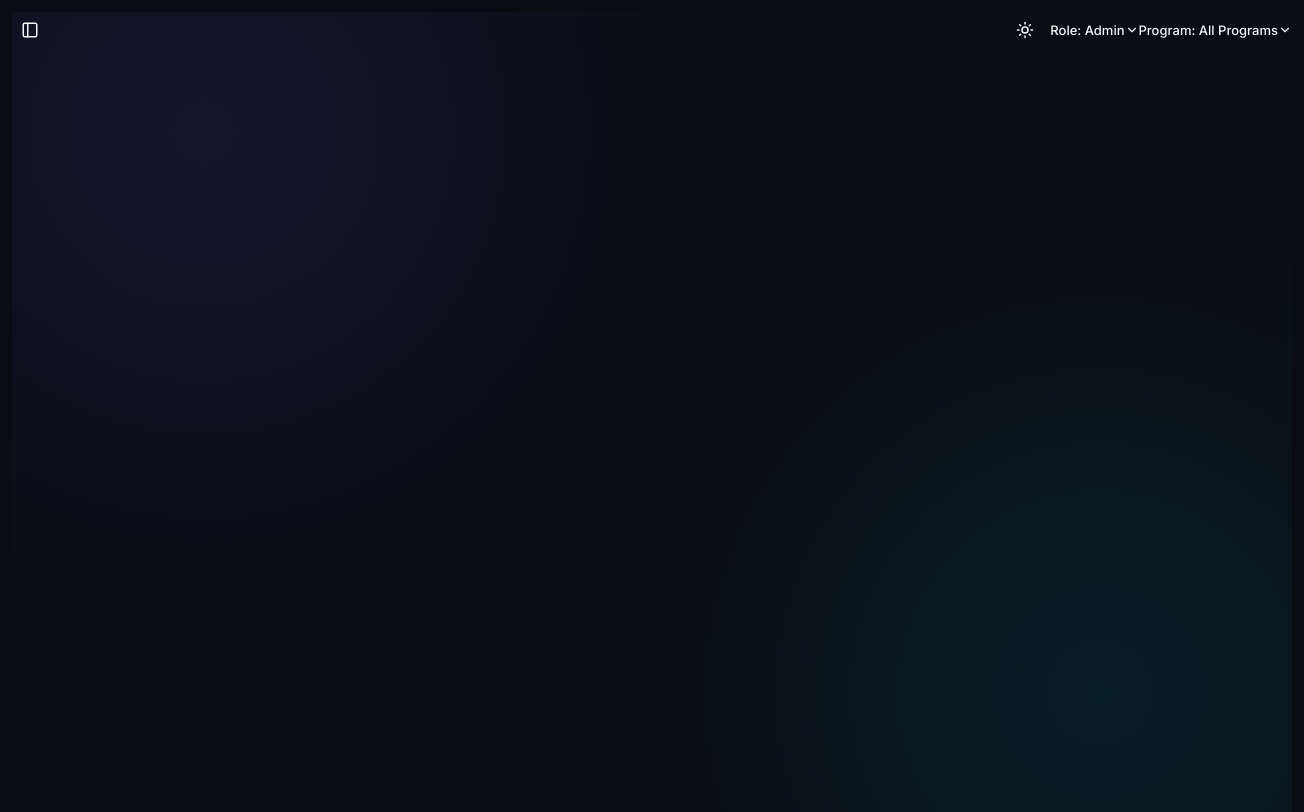
Scenario: Header › role dropdown › opens a listbox of roles
Click the button "Role: Admin" at (1091, 30), box [1043,13,1138,47]
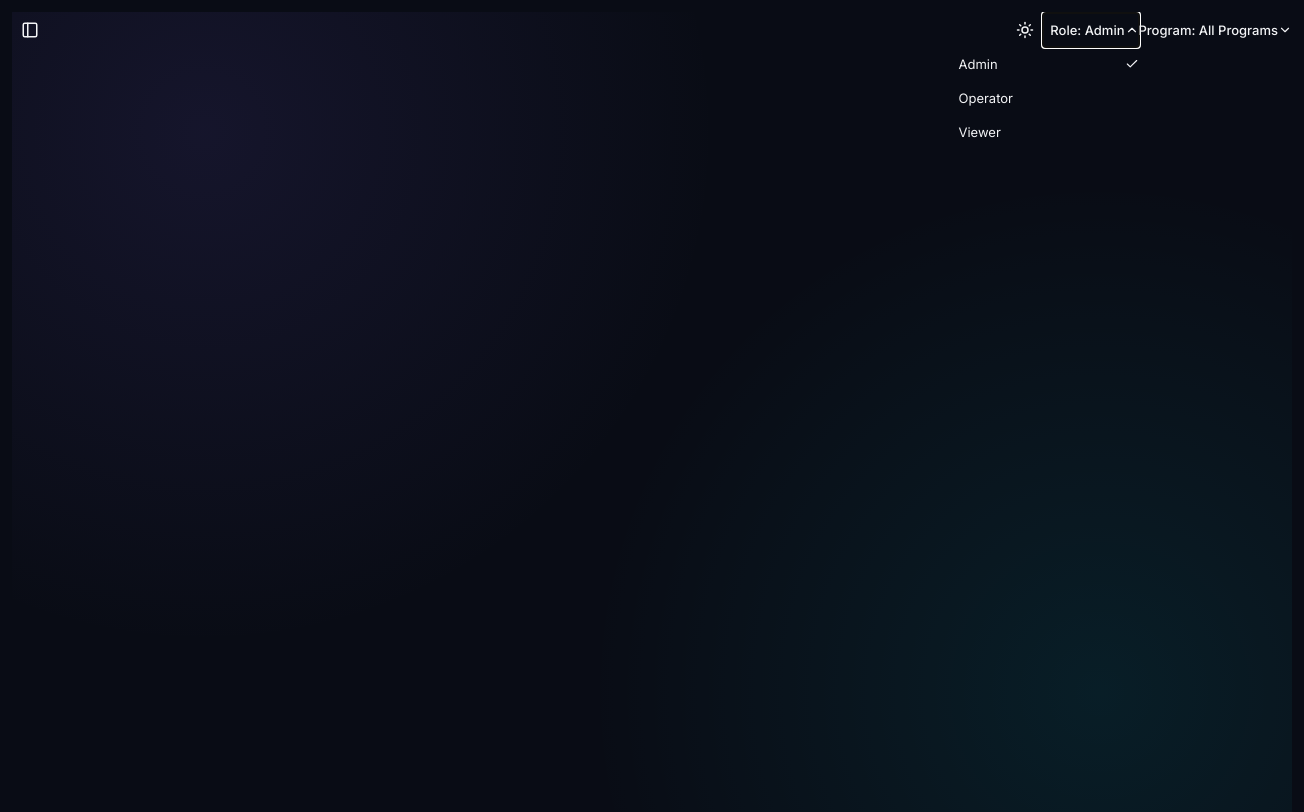
Now the list is shown, box [958,47,1138,149]
Now the option "Admin" is shown, box [958,47,1138,81]
Now the option "Operator" is shown, box [958,81,1138,115]
